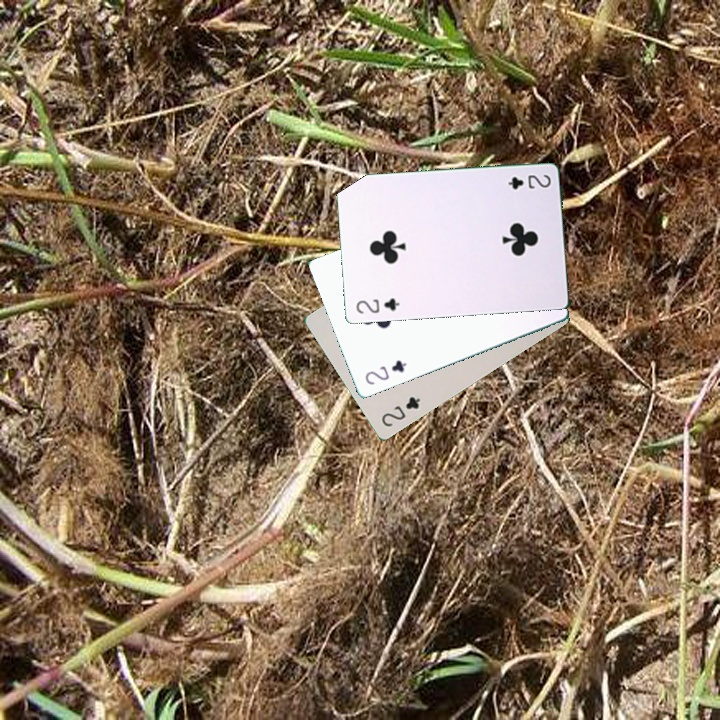2c: (377, 392, 423, 429), (361, 356, 409, 387), (352, 294, 402, 316), (504, 171, 553, 192)
